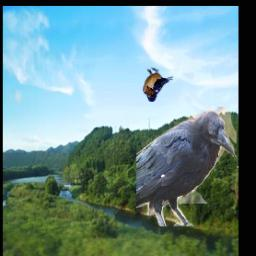Crow: (135, 108, 236, 227)
Swallow: (142, 68, 172, 103)
